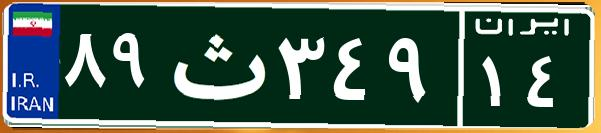1: (475, 38, 525, 113)
3: (273, 28, 330, 110)
4: (330, 28, 385, 110), (525, 38, 570, 115)
8: (57, 26, 110, 107)
9: (385, 28, 445, 110), (110, 28, 158, 105)
ث: (158, 15, 273, 115)
